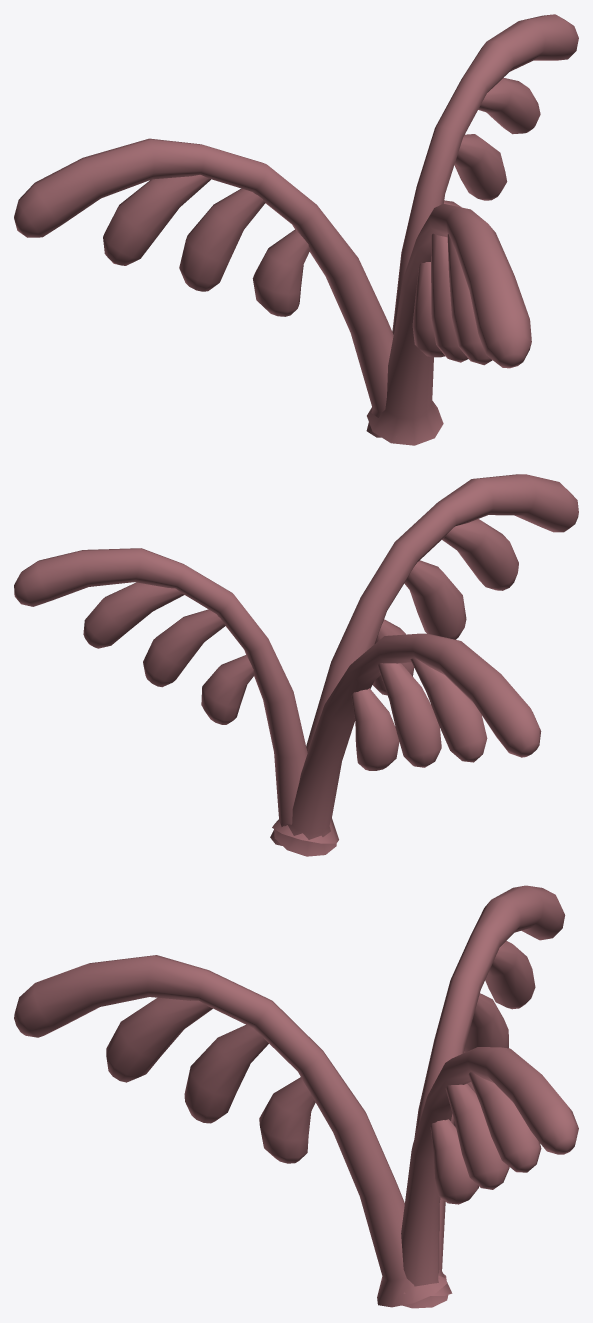
File: rockyPlant_stage2.fbx
The picture shows the model from 3 angles, top to bottom: view 1: azimuth 30°, elevation 25°; view 2: azimuth 150°, elevation 25°; view 3: azimuth 270°, elevation 25°; orthographic projection. The views are drawn at different scales.
Visible parts, largest first — view 1: phase2_rockyStem (×3), phase2_rockyLeaf2 (×3), phase2_rockyLeaf3 (×3), phase2_rockyLeaf4 (×2); view 2: phase2_rockyStem (×3), phase2_rockyLeaf2 (×3), phase2_rockyLeaf3 (×3), phase2_rockyLeaf4 (×3); view 3: phase2_rockyStem (×3), phase2_rockyLeaf3 (×3), phase2_rockyLeaf2 (×3), phase2_rockyLeaf4 (×2).
Boxes of the visible parts, x1=… form: phase2_rockyStem (×3): x1=14, y1=14, x2=578, y2=445; phase2_rockyLeaf2 (×3): x1=179, y1=134, x2=507, y2=362; phase2_rockyLeaf3 (×3): x1=103, y1=77, x2=540, y2=365; phase2_rockyLeaf4 (×2): x1=252, y1=229, x2=444, y2=357; phase2_rockyStem (×3): x1=14, y1=474, x2=578, y2=856; phase2_rockyLeaf2 (×3): x1=143, y1=560, x2=466, y2=767; phase2_rockyLeaf3 (×3): x1=83, y1=519, x2=518, y2=762; phase2_rockyLeaf4 (×3): x1=201, y1=619, x2=414, y2=770; phase2_rockyStem (×3): x1=14, y1=885, x2=578, y2=1308; phase2_rockyLeaf3 (×3): x1=106, y1=941, x2=541, y2=1172; phase2_rockyLeaf2 (×3): x1=184, y1=993, x2=509, y2=1189; phase2_rockyLeaf4 (×2): x1=259, y1=1077, x2=478, y2=1204.
Size of the model in its own units: 73.98 by 40.35 by 64.77.
